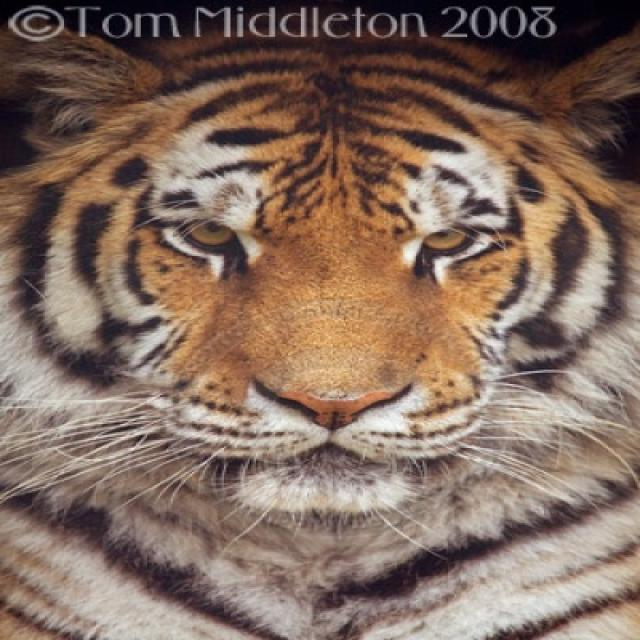Tiger: (0, 8, 638, 638)
